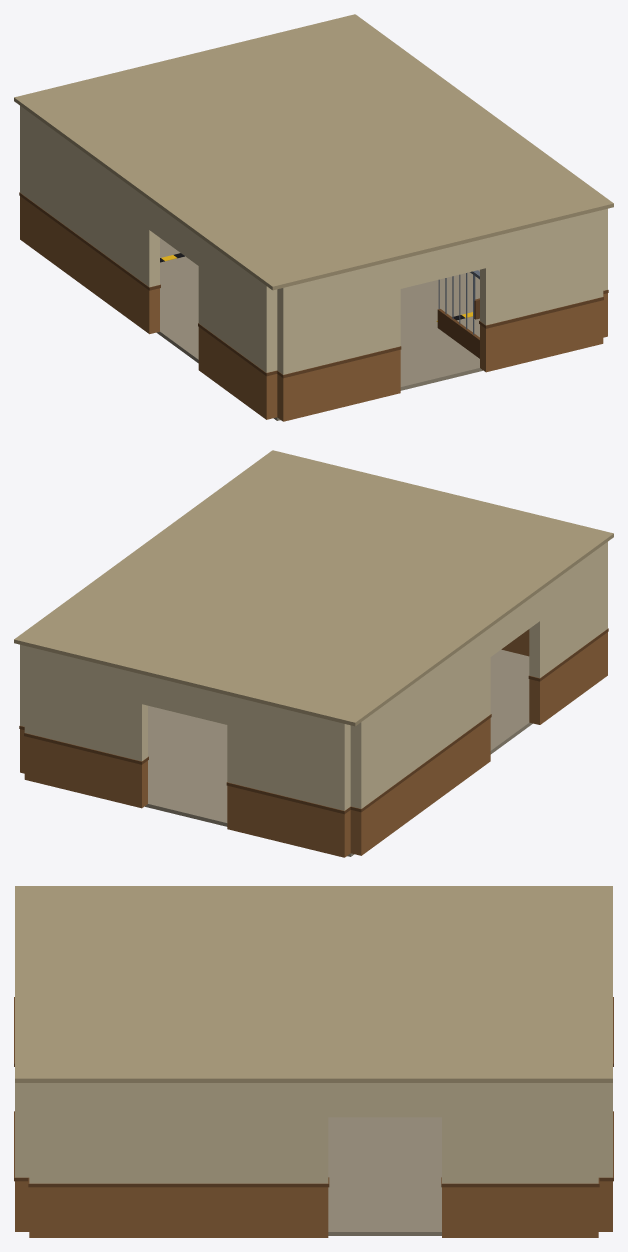
Rendered from room_zoology_quarantine_pens.glb.
The picture shows the model from 3 angles, top to bottom: view 1: azimuth 30°, elevation 25°; view 2: azimuth 150°, elevation 25°; view 3: azimuth 270°, elevation 25°; orthographic projection. The views are drawn at different scales.
Visible parts, largest first — view 1: room_zoology_quarantine_pens; view 2: room_zoology_quarantine_pens; view 3: room_zoology_quarantine_pens.
Boxes of the visible parts, x1,y1,x2,y2 form: room_zoology_quarantine_pens: (14,14,613,421); room_zoology_quarantine_pens: (14,450,613,857); room_zoology_quarantine_pens: (14,886,613,1237).
Bounding box in the file's own units: 9.62 × 3.8 × 12.64.
Materials: 1 (1 with a texture image).
